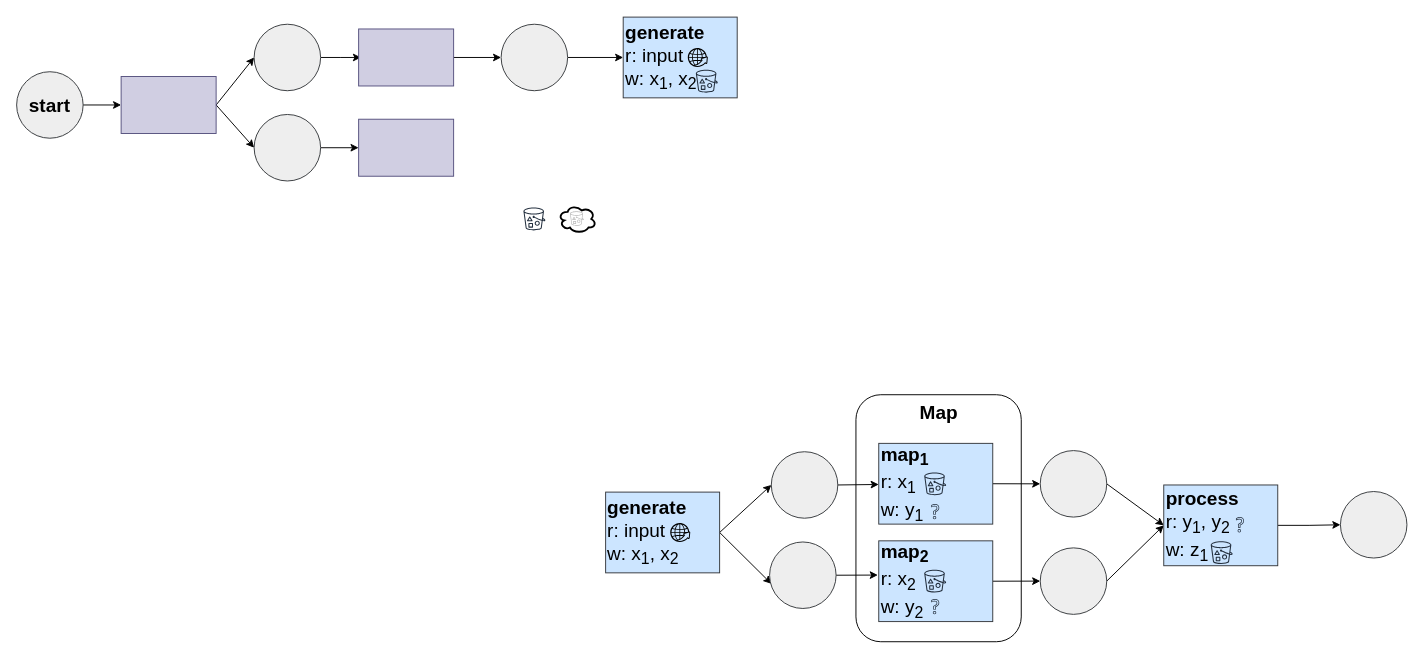
Some shapes in this 1424 by 658 pixel diagram are drawn without their labels. Each missing label, with the centre of its shape:
c 0: the point at 168,104
c 1: the point at 406,57
c 2: the point at 406,147
end: the point at 1373,524
